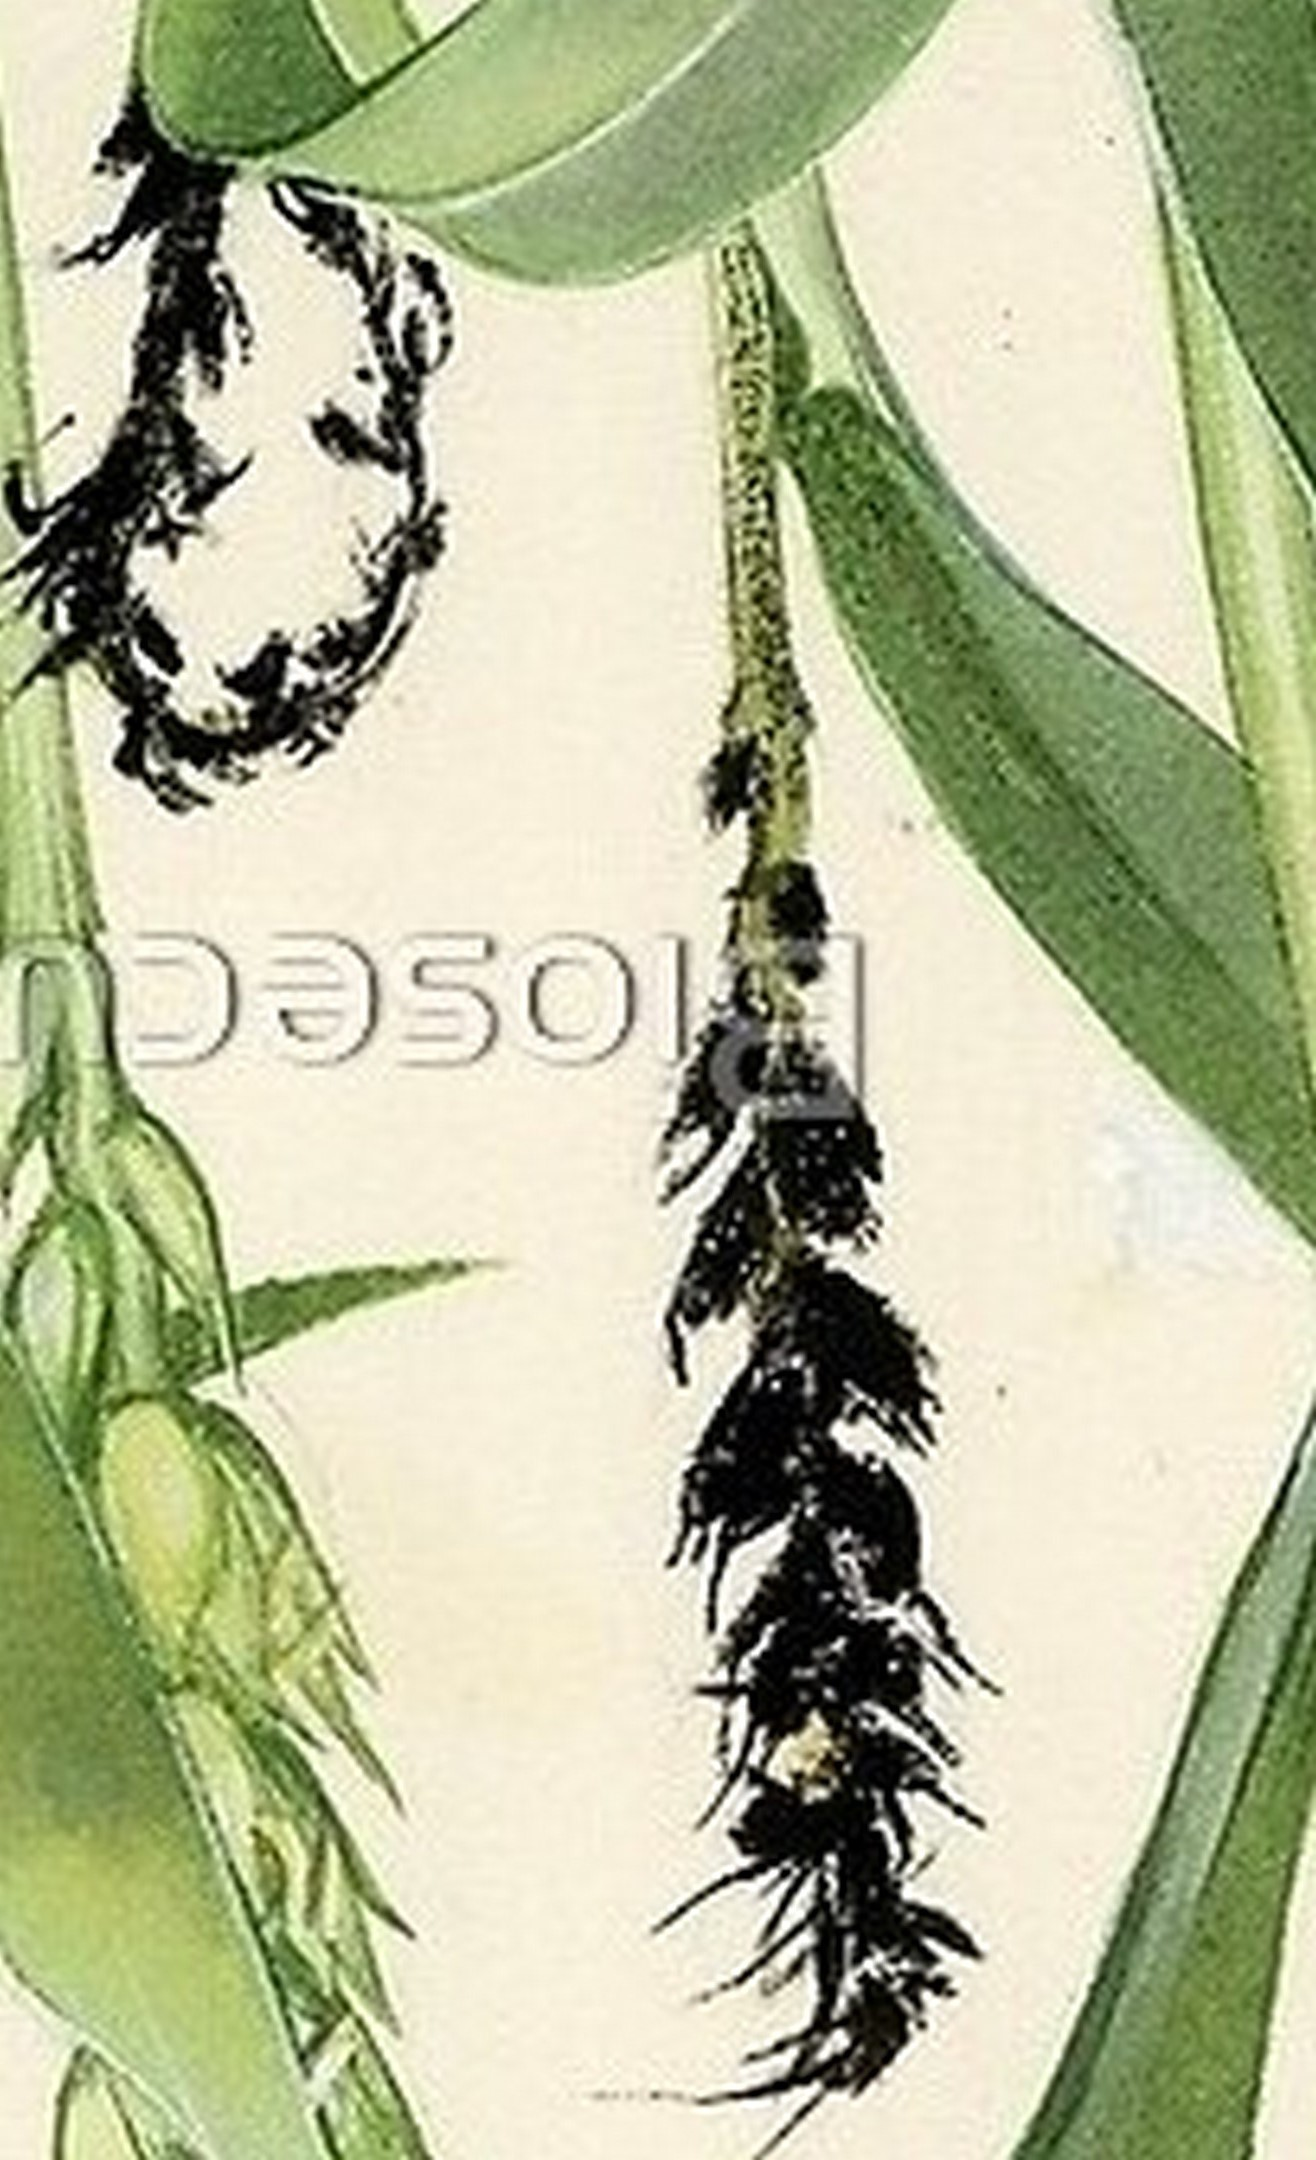Wheat Loose Smut: (617, 756, 1027, 2033)
